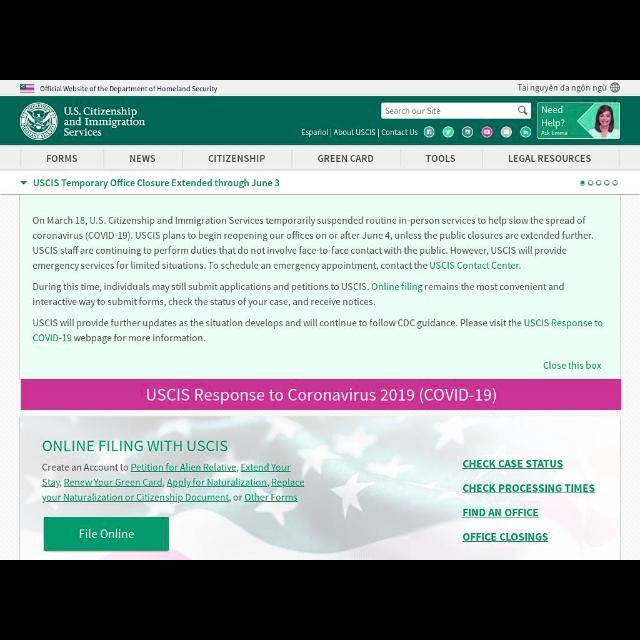icon: (610, 82, 620, 92), (20, 178, 28, 190), (518, 106, 526, 115)
image: (538, 101, 622, 139), (18, 102, 58, 142), (461, 125, 474, 139), (19, 83, 37, 93), (441, 127, 454, 139), (480, 125, 492, 138), (501, 125, 512, 138), (521, 126, 531, 140), (424, 125, 434, 138)
input: (382, 103, 532, 119)
link: (65, 478, 268, 487), (41, 494, 230, 501), (428, 258, 520, 270), (129, 463, 237, 473), (524, 319, 604, 327), (241, 462, 293, 472), (31, 332, 71, 344), (246, 493, 296, 502), (372, 284, 422, 292), (270, 478, 304, 487), (41, 478, 60, 490)
pageindicator: (579, 176, 621, 188)
spinner: (15, 174, 284, 192)
text: (29, 215, 596, 272), (31, 316, 606, 346), (32, 282, 564, 308), (42, 462, 306, 503), (146, 385, 497, 407), (64, 106, 146, 140), (29, 178, 282, 188), (41, 440, 230, 452), (463, 483, 597, 495), (40, 85, 218, 93), (463, 458, 562, 470), (515, 80, 607, 92), (462, 532, 550, 544), (463, 506, 541, 518), (507, 154, 591, 164), (80, 526, 134, 540), (316, 152, 374, 164), (544, 361, 604, 372), (207, 152, 266, 162), (384, 108, 442, 116), (334, 129, 374, 137), (380, 128, 418, 136), (428, 154, 457, 164), (45, 154, 77, 162), (128, 154, 156, 162), (300, 128, 328, 136)
textbutton: (44, 518, 168, 552)
